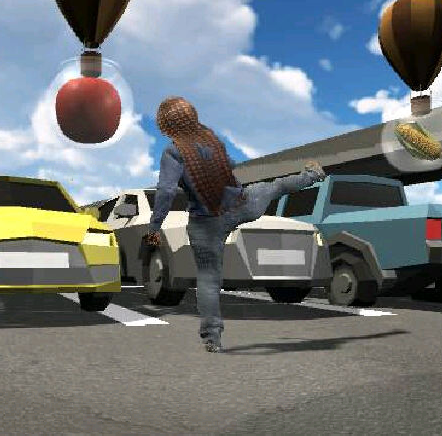turn_right: (145, 95, 331, 359)
